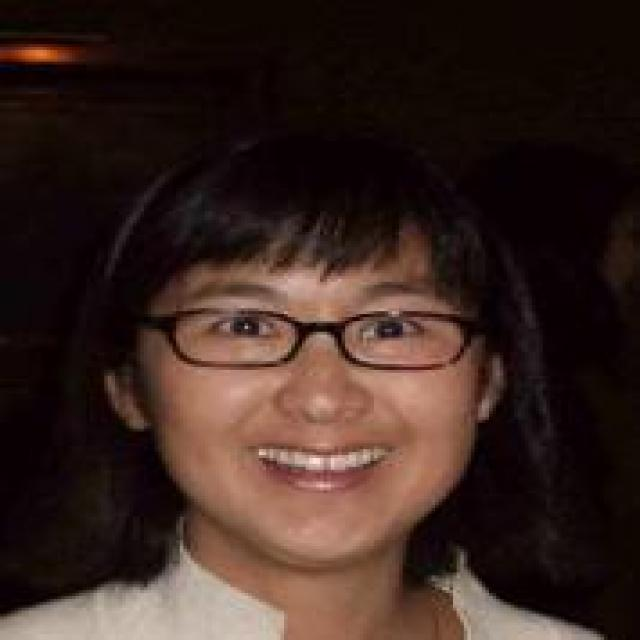nomask: (79, 126, 539, 596)
